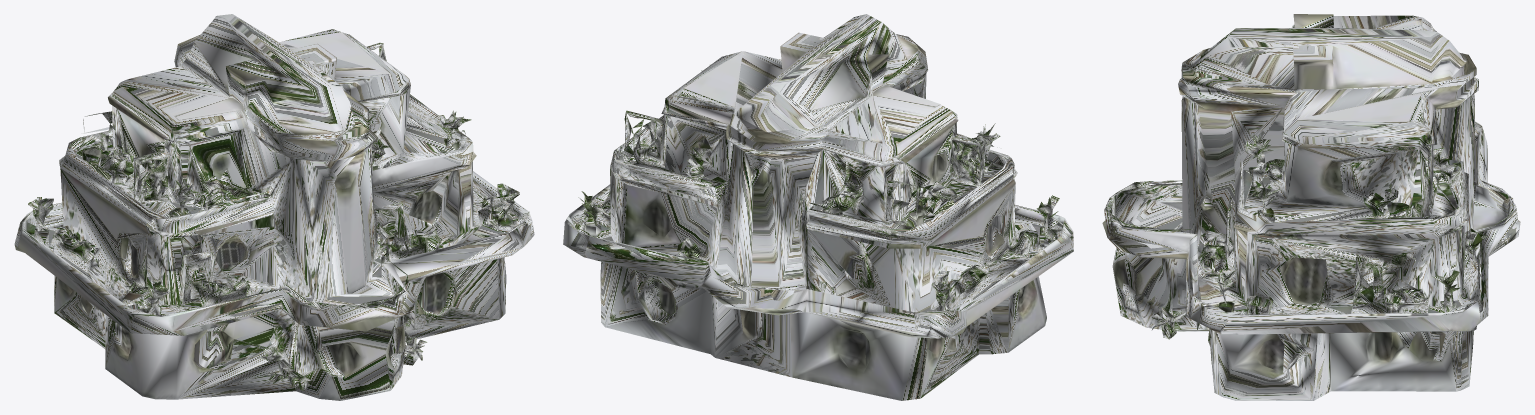
The model's file is plazirvilla.lod1.glb.
3 views of the same model, side by side, from view 1: azimuth 30°, elevation 25°; view 2: azimuth 150°, elevation 25°; view 3: azimuth 270°, elevation 25° (orthographic). The views are drawn at different scales.
Parts seen in each view (by area): view 1: plazirvilla-centred; view 2: plazirvilla-centred; view 3: plazirvilla-centred.
Part boxes in pixels (x1,y1,x2,y2): plazirvilla-centred: (14, 14, 534, 400); plazirvilla-centred: (563, 14, 1073, 400); plazirvilla-centred: (1102, 14, 1520, 400).
Size of the model in its own units: 18.93 by 12 by 16.44.
1 material, 1 textured.
